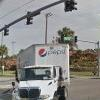Traffic light: (23, 4, 83, 27)
